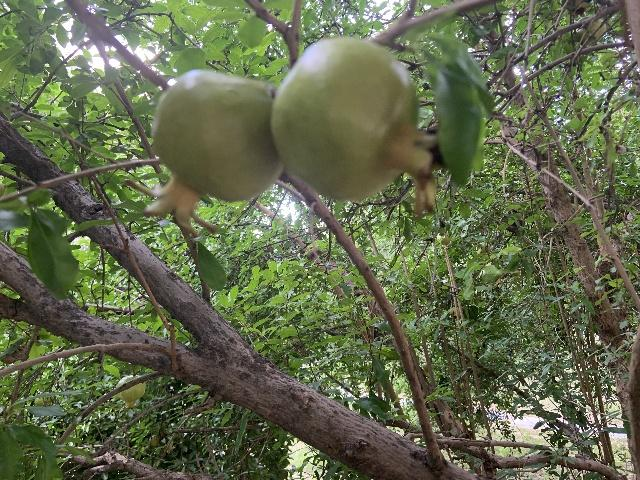mid-growth: (270, 36, 442, 216), (124, 69, 283, 239), (116, 374, 146, 408)
